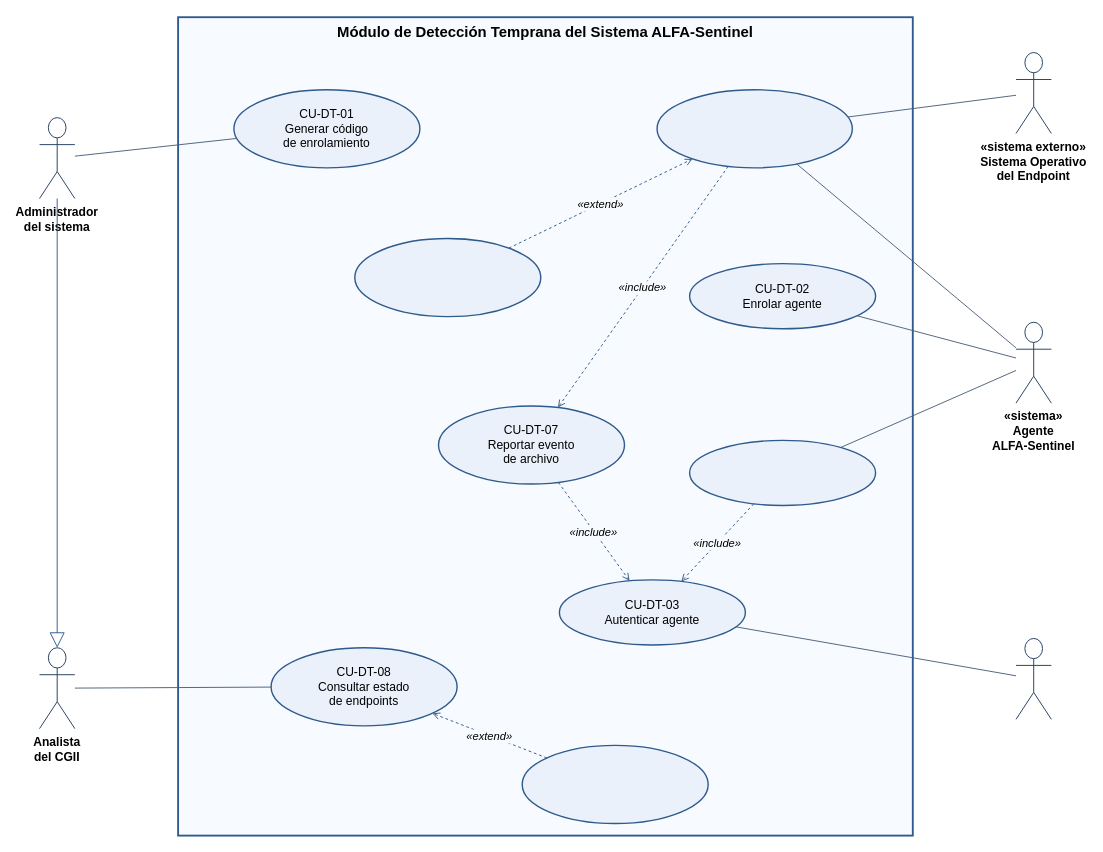
Some shapes in this 1103 by 852 pixel diagram are drawn without their labels. Here are the shapes that lost their labels. From the top down, the centre of each, then its label:
At (x=754, y=128): "CU-DT-05 Monitorear actividad de archivos".
At (x=447, y=277): "CU-DT-06 Identificar proceso responsable".
At (x=782, y=472): "CU-DT-04 Enviar heartbeat".
At (x=1033, y=678): "«sistema» Servidor Central ALFA-Sentinel".
At (x=614, y=784): "CU-DT-09 Consultar detalle del endpoint".
